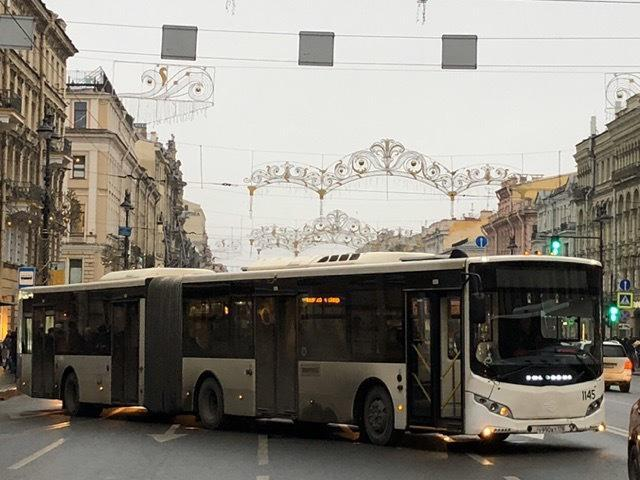bus: (14, 243, 614, 466)
